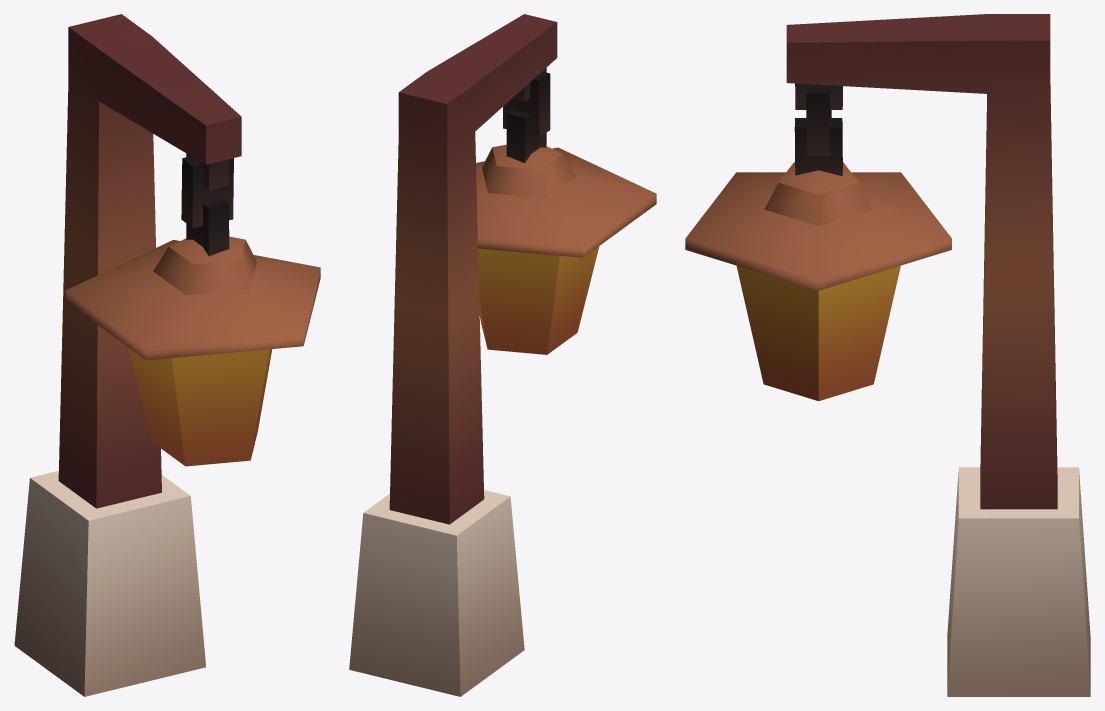
The model's file is Lantern.fbx.
3 renders of one model, left to right at view 1: azimuth 30°, elevation 25°; view 2: azimuth 150°, elevation 25°; view 3: azimuth 270°, elevation 25°, orthographic. The views are drawn at different scales.
Parts seen in each view (by area): view 1: Lantern; view 2: Lantern; view 3: Lantern.
Part boxes in pixels (box(x1,y1,x2,y2)): Lantern: box(14, 14, 320, 696); Lantern: box(349, 14, 656, 696); Lantern: box(685, 14, 1090, 696).
Bounding box in the file's own units: 109 × 303 × 174.
Materials: 1 (1 with a texture image).
